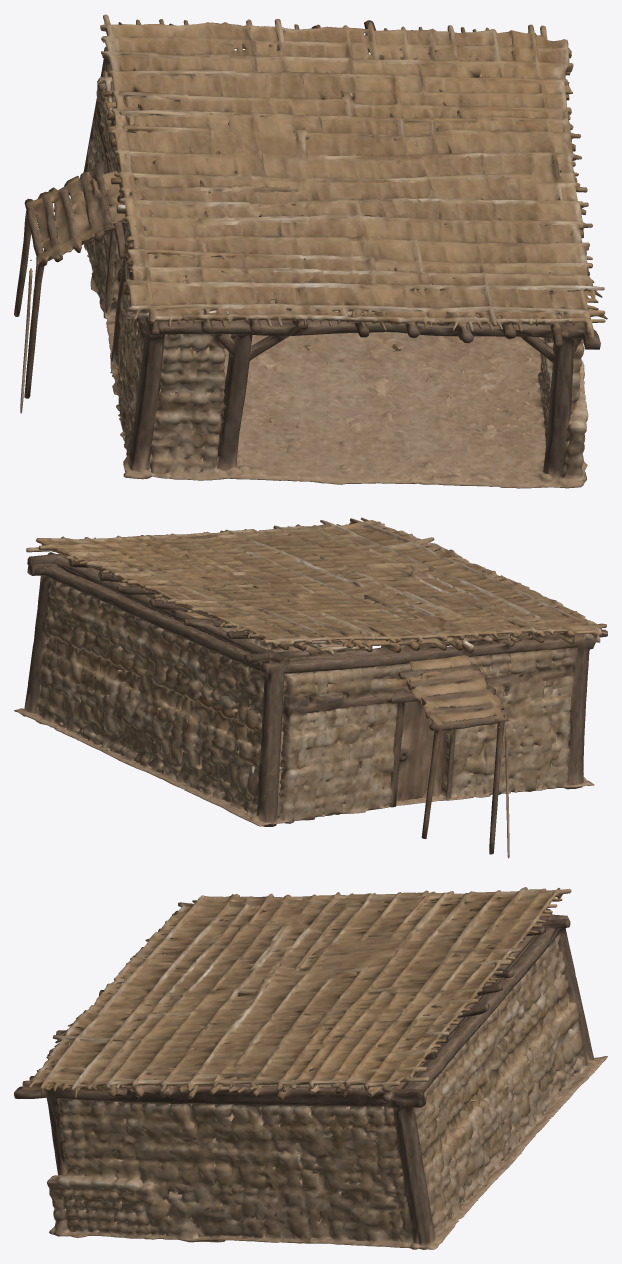
File: square-nativity-stall-pixal3d-runtime.glb
3 views of the same model, one above another, from view 1: azimuth 30°, elevation 25°; view 2: azimuth 150°, elevation 25°; view 3: azimuth 270°, elevation 25° (orthographic). The views are drawn at different scales.
Parts seen in each view (by area): view 1: geometry_0; view 2: geometry_0; view 3: geometry_0.
Part boxes in pixels (x1=…): geometry_0: x1=14, y1=14, x2=607, y2=488; geometry_0: x1=14, y1=517, x2=607, y2=858; geometry_0: x1=14, y1=887, x2=607, y2=1249.
Bounding box in the file's own units: 6.53 × 3.4 × 6.87.
1 material, 1 textured.
